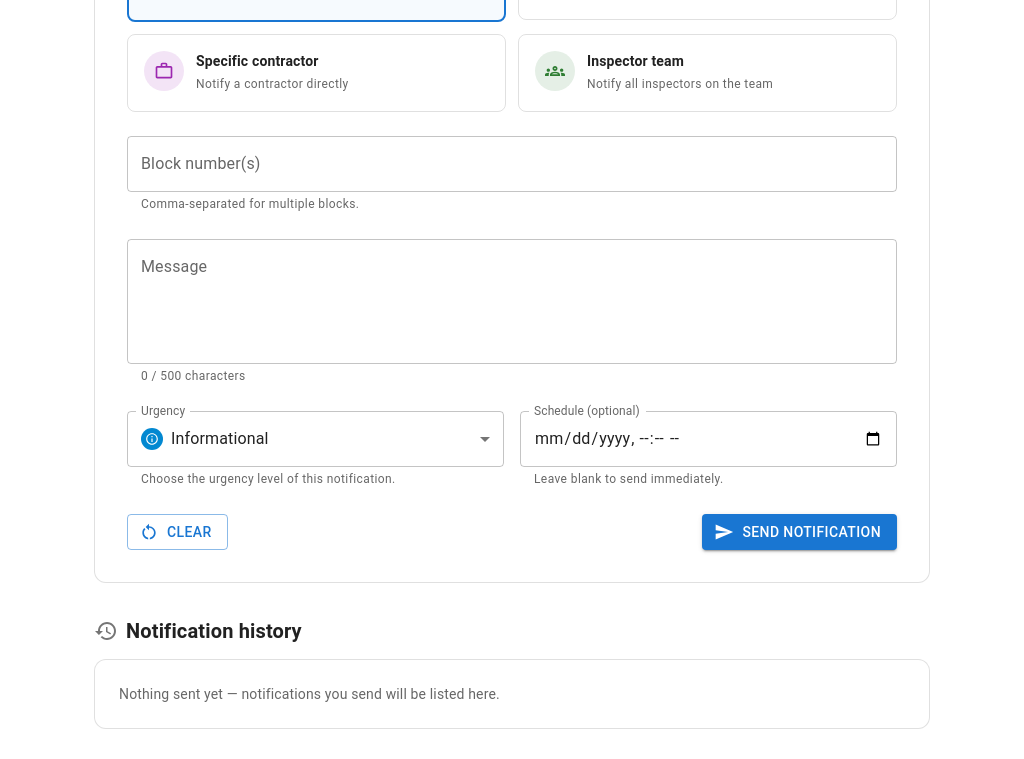
Test: NotificationsPage manager composer — validation › an empty message never opens the confirmation
(page scrolled)
Click the button "Send notification".
click(800, 532)  # box [702,514,897,550]
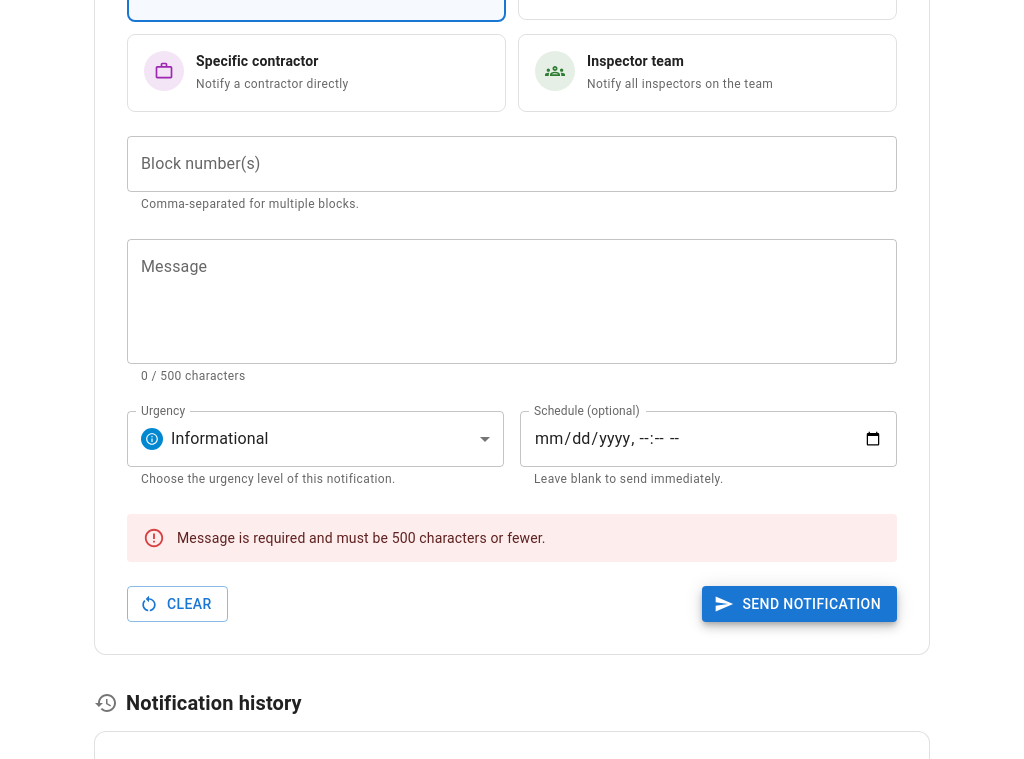
Check: the text "Message is required and must be 500 characters or fewer." is shown, box [177,530,546,546]
